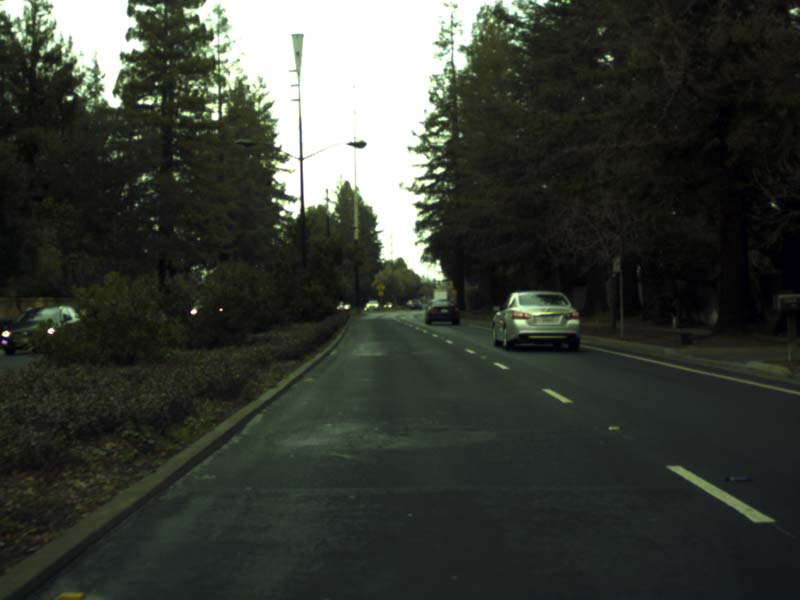Red: (419, 292, 422, 300)
